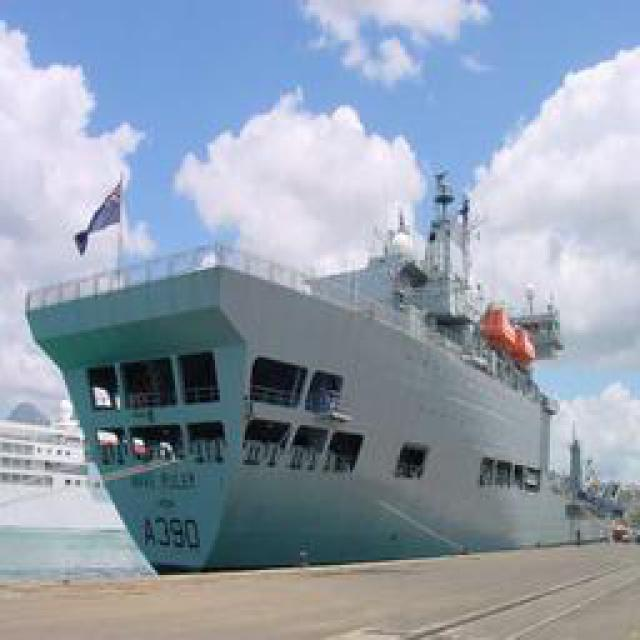Ship: (19, 144, 640, 587)
